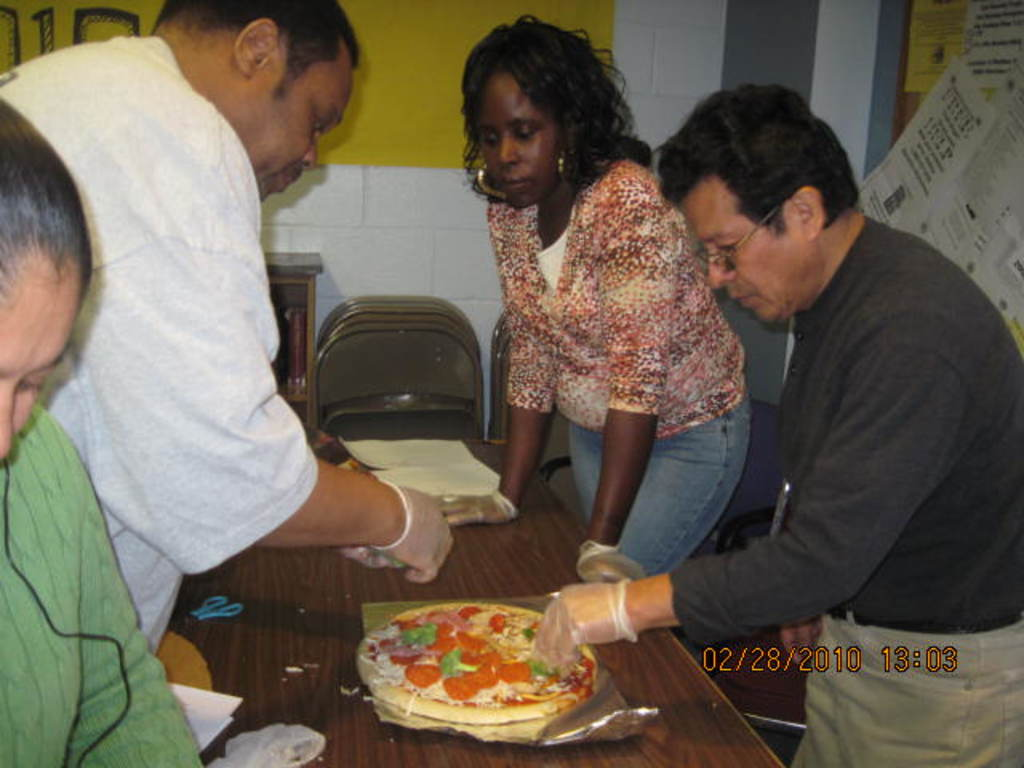Pizza: (350, 608, 576, 747)
